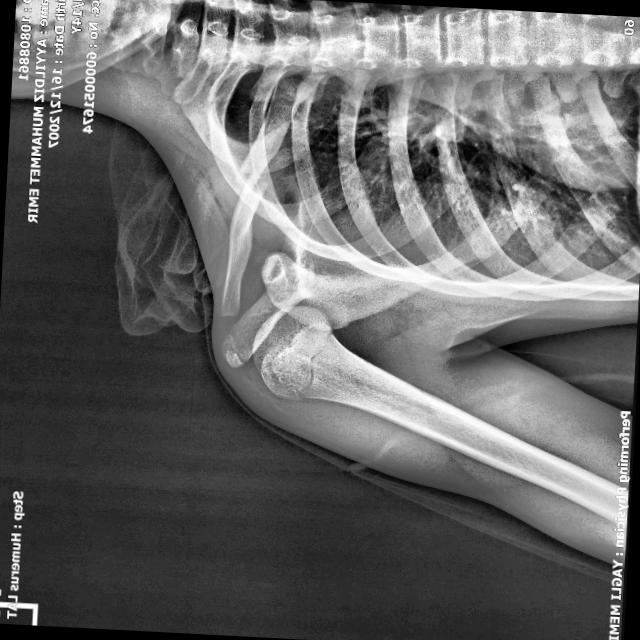Fracture: (232, 159, 272, 209)
